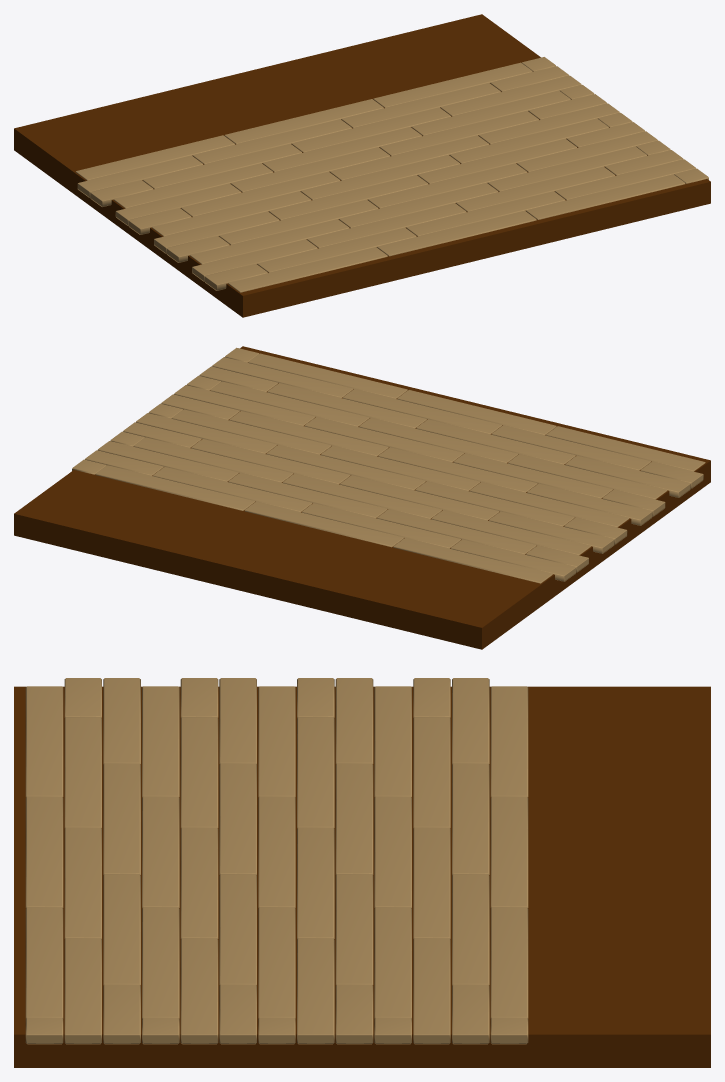
File: PODLOGA.fbx
3 renders of one model, top to bottom at view 1: azimuth 30°, elevation 25°; view 2: azimuth 150°, elevation 25°; view 3: azimuth 270°, elevation 25°, orthographic. The views are drawn at different scales.
Visible parts, largest first — view 1: Cube.016; view 2: Cube.016; view 3: Cube.016.
Boxes of the visible parts, box(x1,y1,x2,y2) form: Cube.016: box(14, 14, 710, 317); Cube.016: box(14, 346, 710, 649); Cube.016: box(14, 678, 710, 1067).
Bounding box in the file's own units: 4596 × 211 × 3802.
